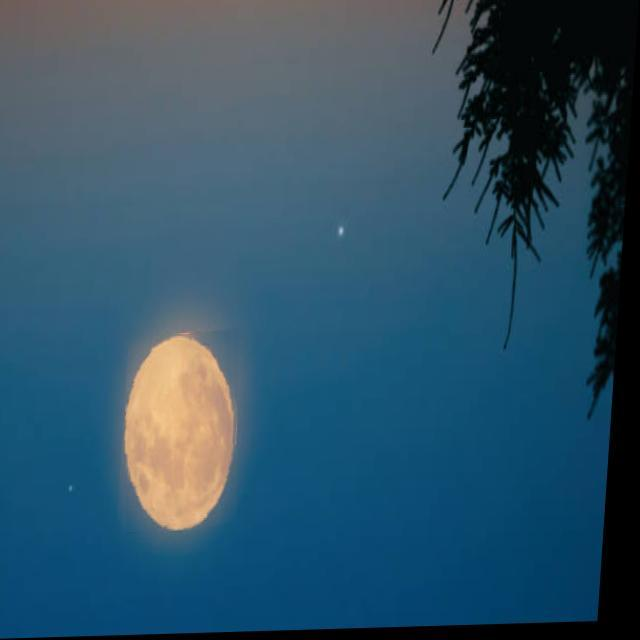moon: (124, 331, 250, 534)
